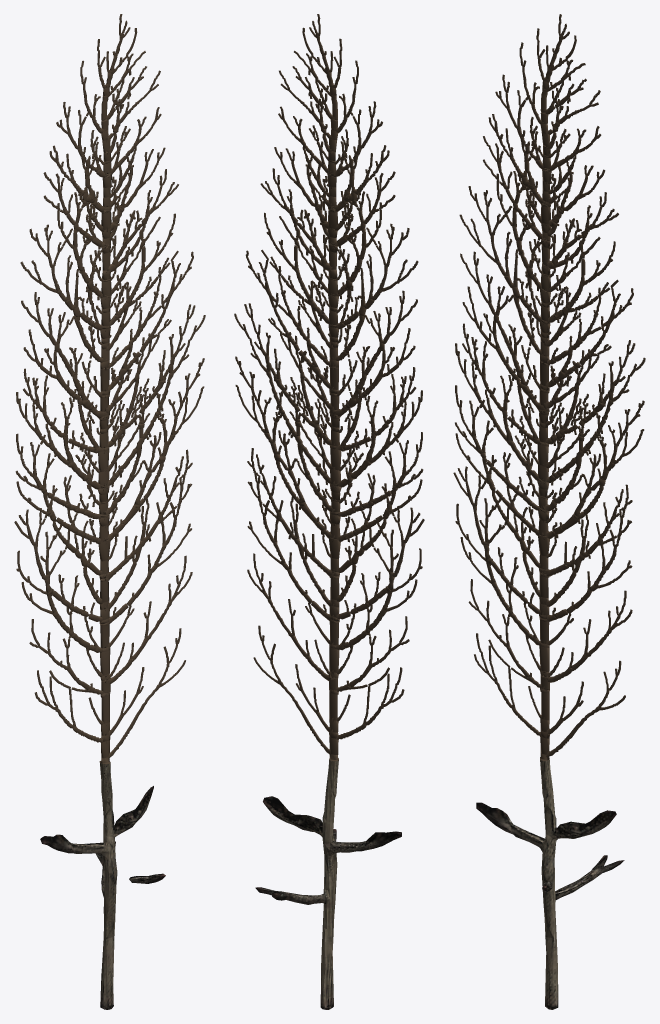
3 views of the same model, side by side, from view 1: azimuth 30°, elevation 25°; view 2: azimuth 150°, elevation 25°; view 3: azimuth 330°, elevation 25° (orthographic).
Parts seen in each view (by area): view 1: Eocladus repaired source; view 2: Eocladus repaired source; view 3: Eocladus repaired source.
Part boxes in pixels (x1,y1,x2,y2): Eocladus repaired source: (14,14,205,1009); Eocladus repaired source: (234,14,424,1009); Eocladus repaired source: (453,14,645,1009).
Size of the model in its own units: 0.0296 by 0.1471 by 0.0176.
Materials: 2 (1 with a texture image).
